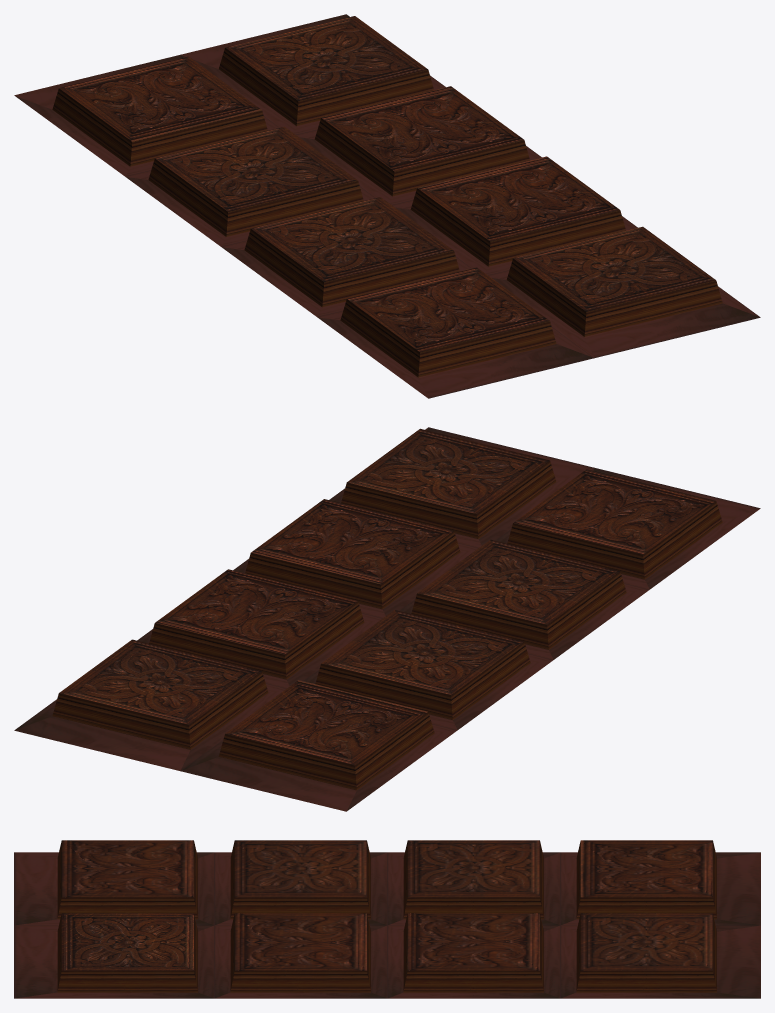
Rendered from Ceiling_woodPanelNarrow.fbx.
The picture shows the model from 3 angles, top to bottom: view 1: azimuth 30°, elevation 25°; view 2: azimuth 150°, elevation 25°; view 3: azimuth 270°, elevation 25°; orthographic projection. The views are drawn at different scales.
Visible parts, largest first — view 1: Ceiling.001; view 2: Ceiling.001; view 3: Ceiling.001.
Part boxes in pixels (x1=…): Ceiling.001: x1=14, y1=14, x2=760, y2=398; Ceiling.001: x1=14, y1=427, x2=760, y2=811; Ceiling.001: x1=14, y1=840, x2=760, y2=998.
Bounding box in the file's own units: 241 × 15.5 × 521.
